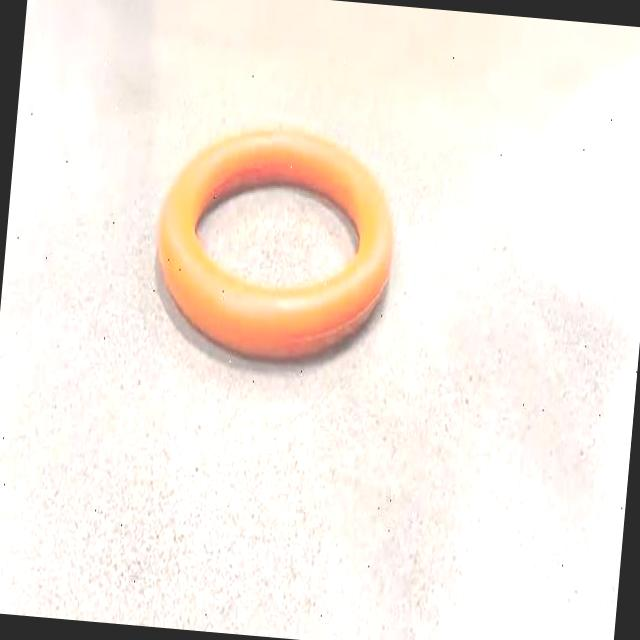note: (158, 127, 393, 358)
